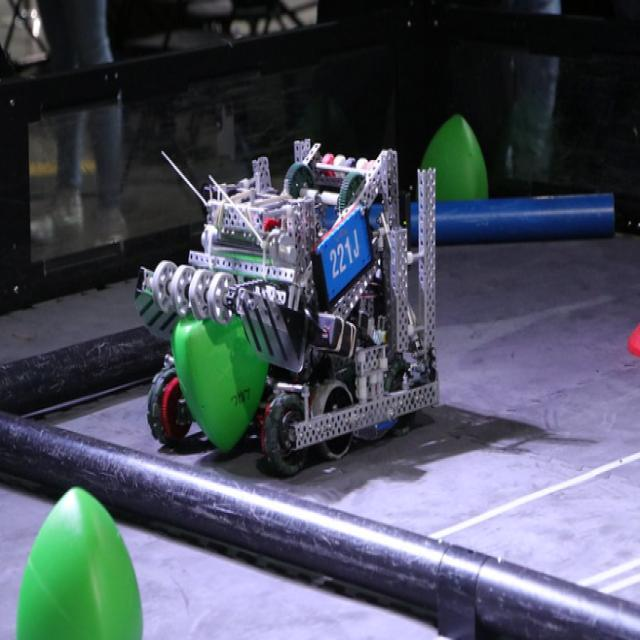License-Plates: (316, 206, 376, 304)
